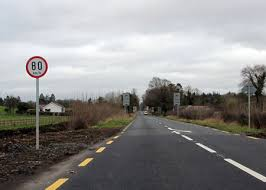Speed_limit_80km: (26, 56, 48, 78)
